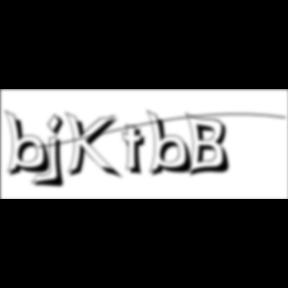B: (185, 111, 235, 179)
K: (66, 110, 124, 182)
b: (4, 109, 58, 179), (146, 109, 199, 179)
j: (44, 113, 72, 191)
t: (122, 124, 152, 179)
